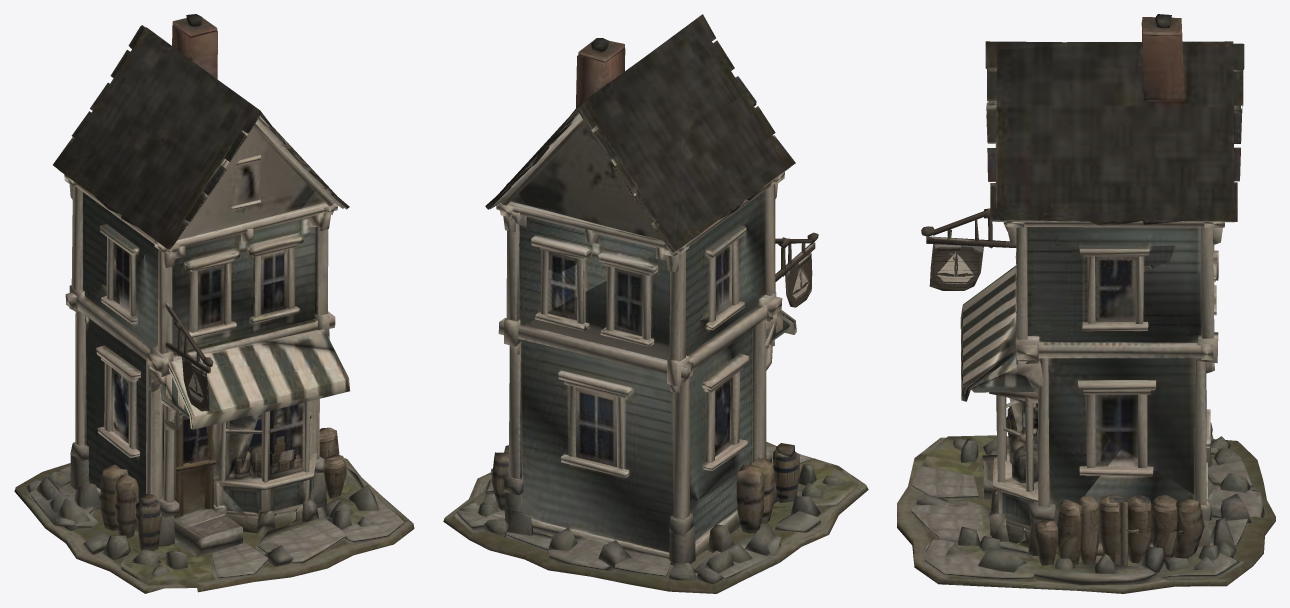
The model's file is storefront_3.glb.
3 views of the same model, side by side, from view 1: azimuth 30°, elevation 25°; view 2: azimuth 150°, elevation 25°; view 3: azimuth 270°, elevation 25° (orthographic). The views are drawn at different scales.
Visible parts, largest first — view 1: Storefront3Mesh; view 2: Storefront3Mesh; view 3: Storefront3Mesh.
Part boxes in pixels (x1=…): Storefront3Mesh: x1=14, y1=14, x2=414, y2=593; Storefront3Mesh: x1=443, y1=14, x2=868, y2=593; Storefront3Mesh: x1=897, y1=14, x2=1275, y2=593.
Bounding box in the file's own units: 1.36 × 2 × 1.36.
1 material, 1 textured.
